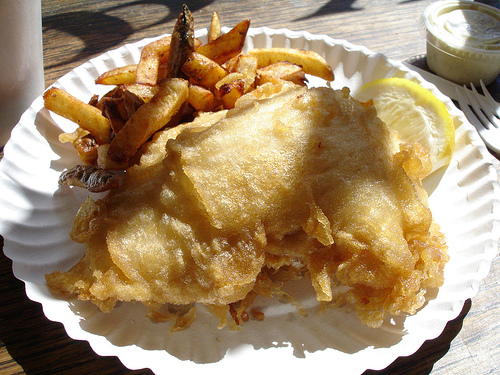fish: (166, 3, 199, 78), (58, 164, 126, 191)
